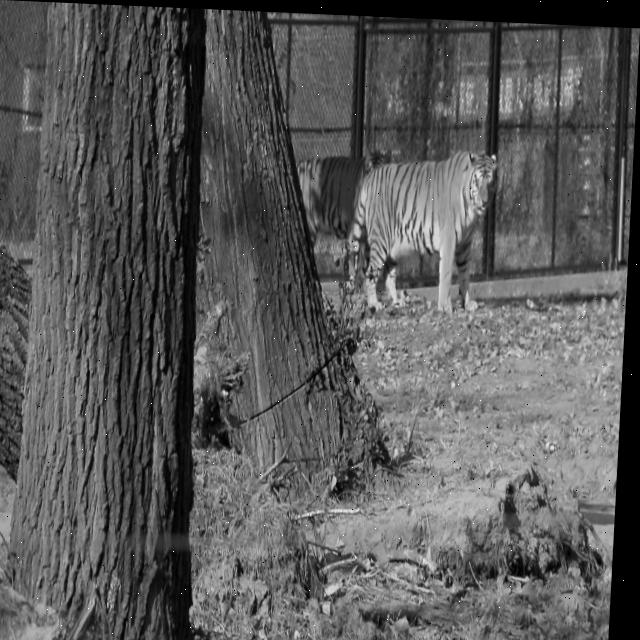Tiger: (344, 142, 499, 317), (289, 148, 382, 288)
